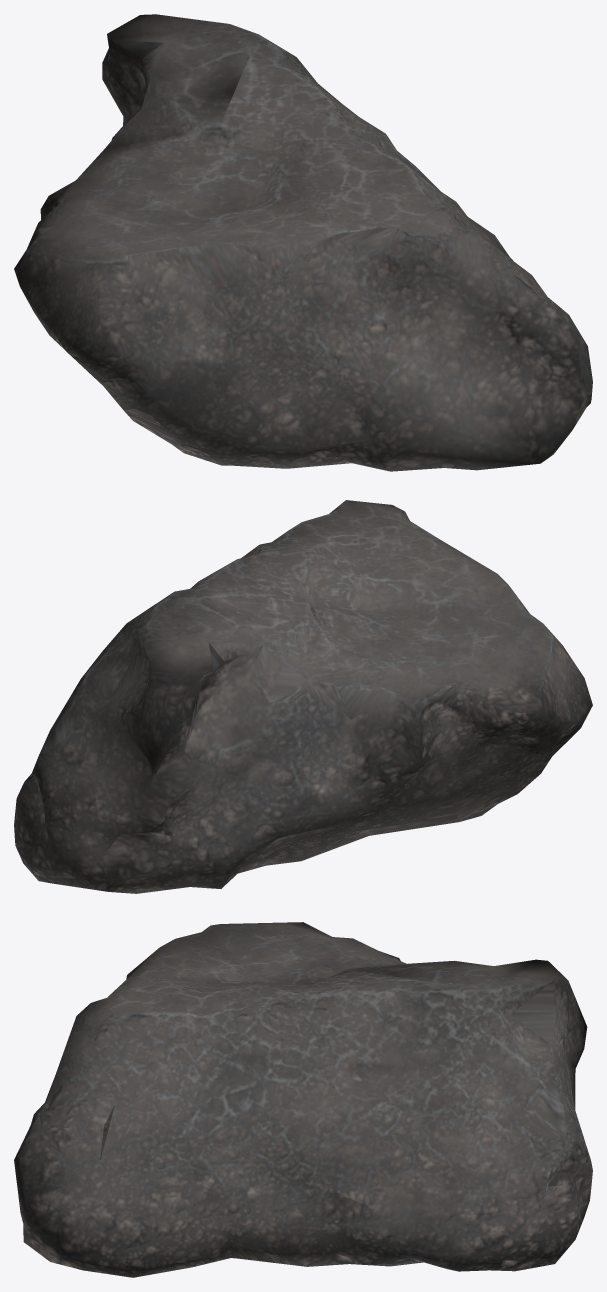
File: Rock_medium_06_GREY.fbx
3 renders of one model, top to bottom at view 1: azimuth 30°, elevation 25°; view 2: azimuth 150°, elevation 25°; view 3: azimuth 270°, elevation 25°, orthographic. The views are drawn at different scales.
Parts seen in each view (by area): view 1: Rock_medium_06_GREY; view 2: Rock_medium_06_GREY; view 3: Rock_medium_06_GREY.
Part boxes in pixels (box(x1,y1,x2,y2)): Rock_medium_06_GREY: box(14, 14, 592, 471); Rock_medium_06_GREY: box(14, 500, 592, 893); Rock_medium_06_GREY: box(14, 922, 592, 1277).
Size of the model in its own units: 0.5679 by 0.3321 by 0.7098.
Materials: 1 (1 with a texture image).
